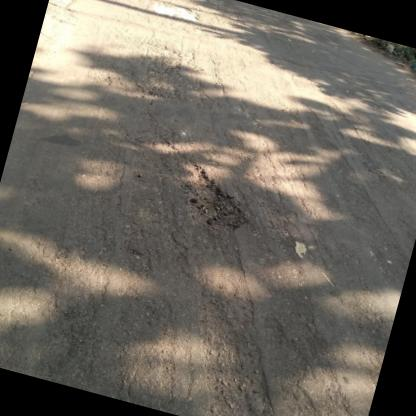pothole: (171, 160, 261, 240)
